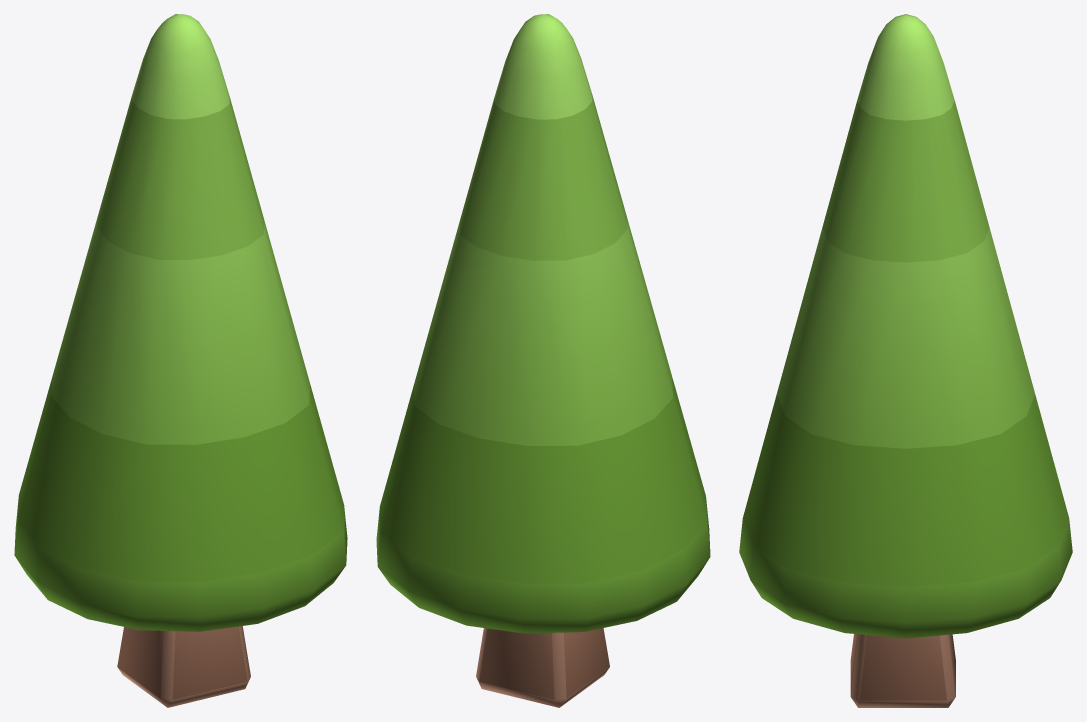
The model's file is tree_1.fbx.
3 views of the same model, side by side, from view 1: azimuth 30°, elevation 25°; view 2: azimuth 150°, elevation 25°; view 3: azimuth 270°, elevation 25° (orthographic).
Visible parts, largest first — view 1: tree_1; view 2: tree_1; view 3: tree_1.
Part boxes in pixels (x1,y1,x2,y2): tree_1: (14,14,347,707); tree_1: (376,14,710,707); tree_1: (739,14,1072,707).
Bounding box in the file's own units: 115 × 255 × 115.
